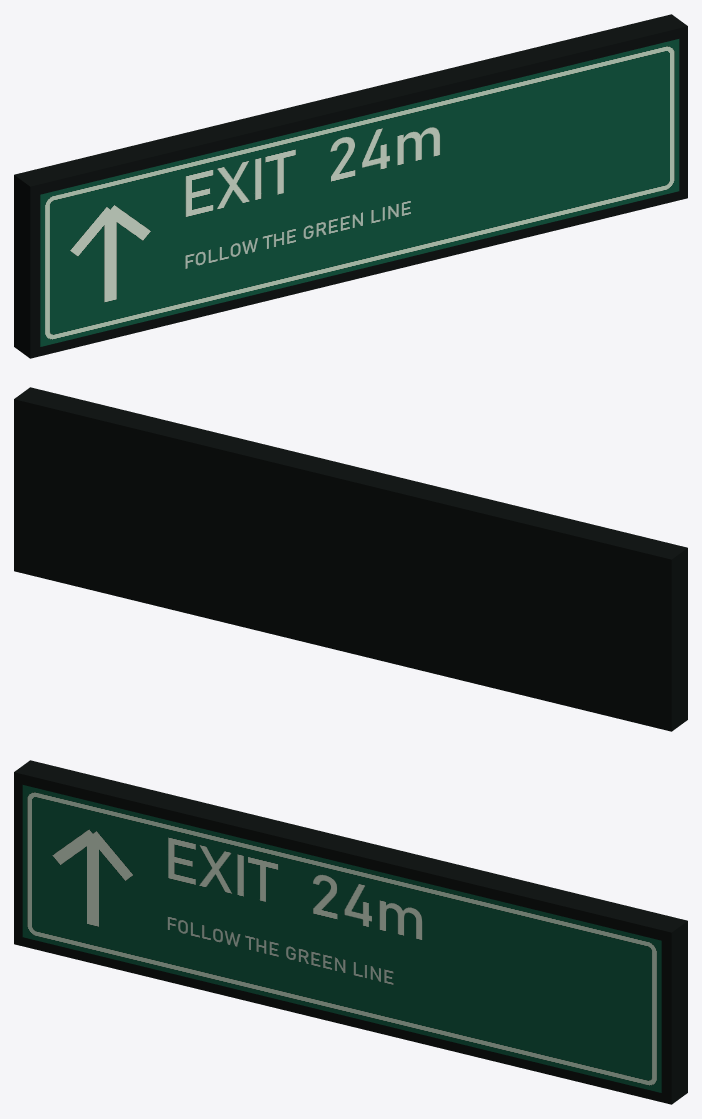
Rendered from RouteSign.obj.
The picture shows the model from 3 angles, top to bottom: view 1: azimuth 30°, elevation 25°; view 2: azimuth 150°, elevation 25°; view 3: azimuth 330°, elevation 25°; orthographic projection.
Visible parts, largest first — view 1: RouteSign; view 2: RouteSign; view 3: RouteSign.
Boxes of the visible parts, bbox=[...] form: RouteSign: bbox=[14, 14, 687, 358]; RouteSign: bbox=[14, 387, 687, 731]; RouteSign: bbox=[14, 760, 687, 1104].
Size of the model in its own units: 2.8 by 0.7 by 0.125.
2 materials, 1 textured.
